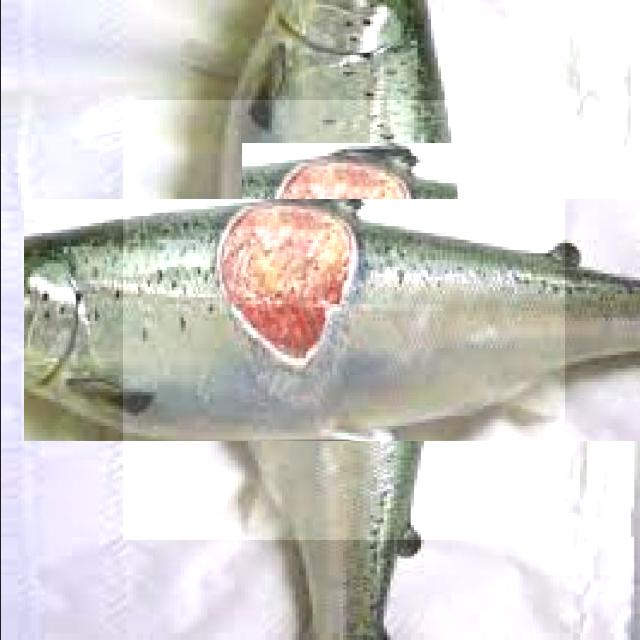EUS Disease: (122, 100, 564, 540), (231, 153, 467, 389)
